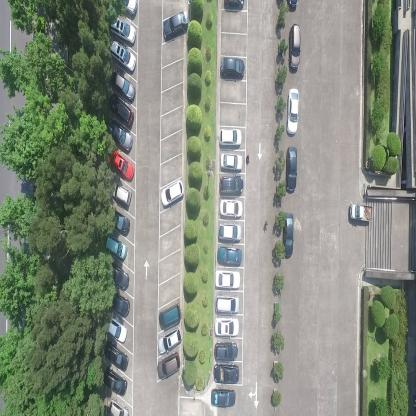car: (108, 38, 137, 74), (106, 119, 133, 154), (108, 93, 134, 128), (162, 7, 189, 40), (110, 68, 136, 101), (102, 364, 128, 396), (160, 176, 184, 209), (104, 339, 128, 372), (158, 325, 183, 356), (157, 350, 182, 381), (109, 15, 136, 43), (109, 150, 134, 180), (287, 86, 300, 137), (158, 303, 182, 330), (104, 234, 128, 261), (284, 144, 297, 192), (289, 22, 301, 73), (107, 315, 128, 344), (220, 55, 244, 80), (112, 179, 132, 208), (282, 211, 294, 259), (217, 222, 243, 244), (213, 362, 239, 384), (349, 201, 373, 224), (214, 339, 238, 362), (219, 174, 244, 196), (215, 294, 240, 316), (215, 269, 242, 289), (110, 263, 129, 291), (219, 127, 244, 148), (219, 198, 244, 219), (220, 150, 243, 172), (211, 388, 236, 408), (111, 208, 129, 235), (215, 317, 239, 337), (110, 291, 129, 316), (217, 246, 243, 264), (107, 398, 129, 416), (116, 0, 139, 16), (222, 0, 245, 14)
